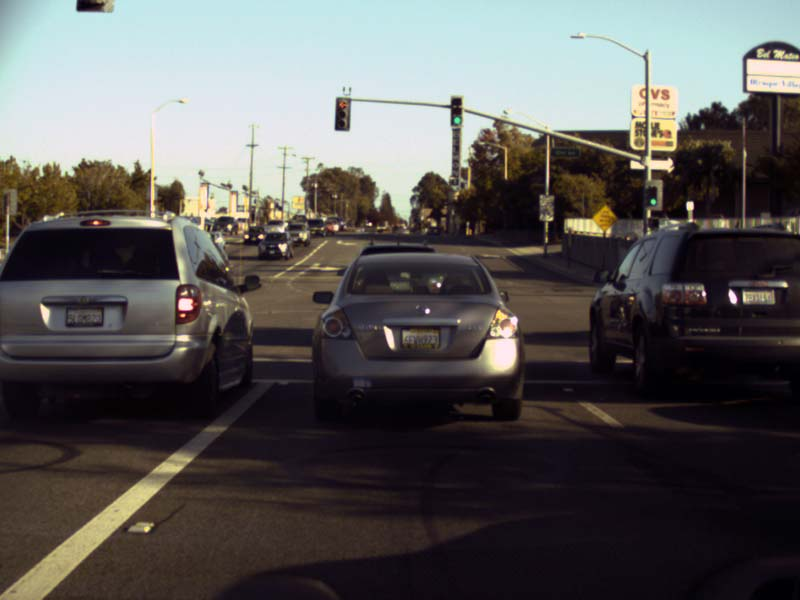Green: (451, 95, 463, 127), (646, 186, 657, 206)
Red: (335, 96, 349, 131)
